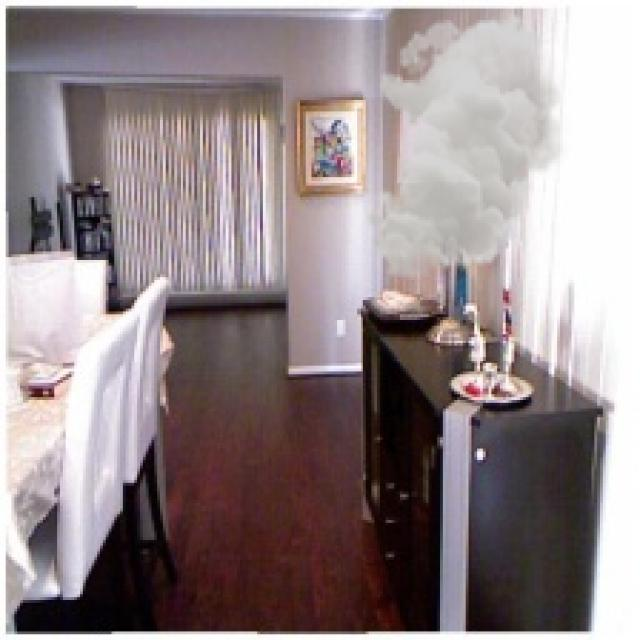smoke: (366, 11, 571, 280)
